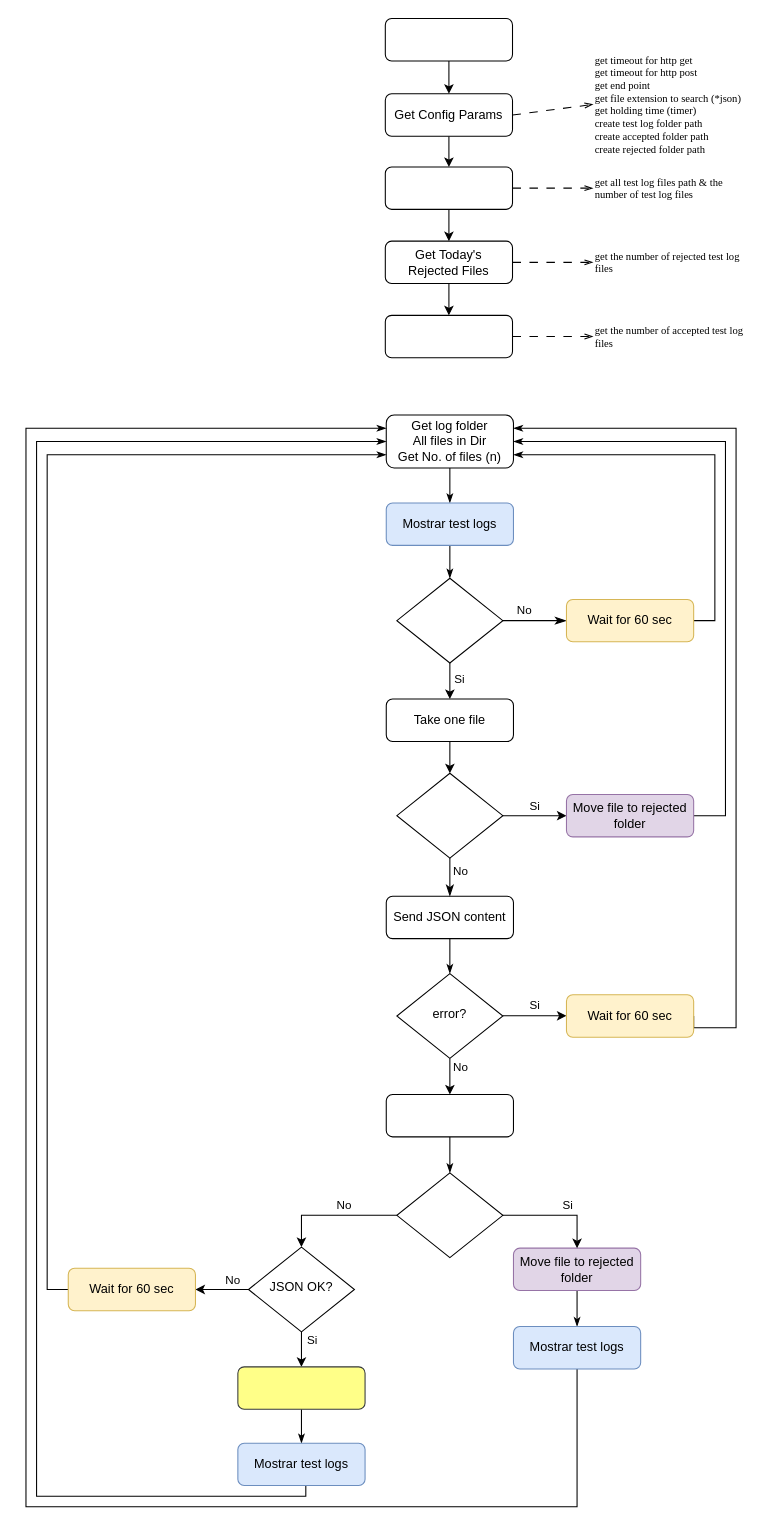
This 765x1534 diagram has some shape labels left out. The shapes that lost their labels are listed below. From the top down, each one's centre as x and y in pixels, then its label:
pixel 448 39: Initilize
pixel 448 187: Get All Log Files
pixel 448 336: Get Today's Accepted Files
pixel 449 620: n > 0
pixel 449 815: is STOP test log ?
pixel 449 1115: Get server response
pixel 449 1215: error= false?
pixel 301 1387: Move file to accepted folder
